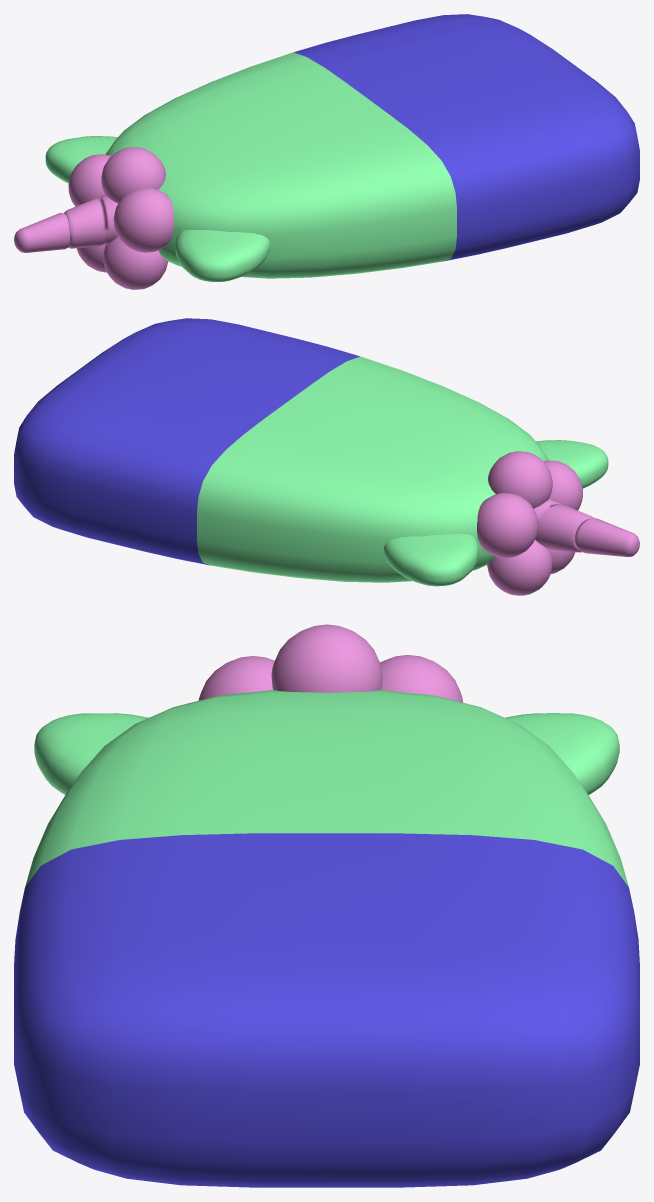
File: popsicle_5.fbx
The picture shows the model from 3 angles, top to bottom: view 1: azimuth 30°, elevation 25°; view 2: azimuth 150°, elevation 25°; view 3: azimuth 270°, elevation 25°; orthographic projection. The views are drawn at different scales.
Visible parts, largest first — view 1: Subdivision_Surface.001; view 2: Subdivision_Surface.001; view 3: Subdivision_Surface.001.
Boxes of the visible parts, x1,y1,x2,y2 form: Subdivision_Surface.001: (14, 14, 639, 289); Subdivision_Surface.001: (14, 318, 639, 595); Subdivision_Surface.001: (14, 624, 639, 1187).
Bounding box in the file's own units: 118 × 25.06 × 65.47.
